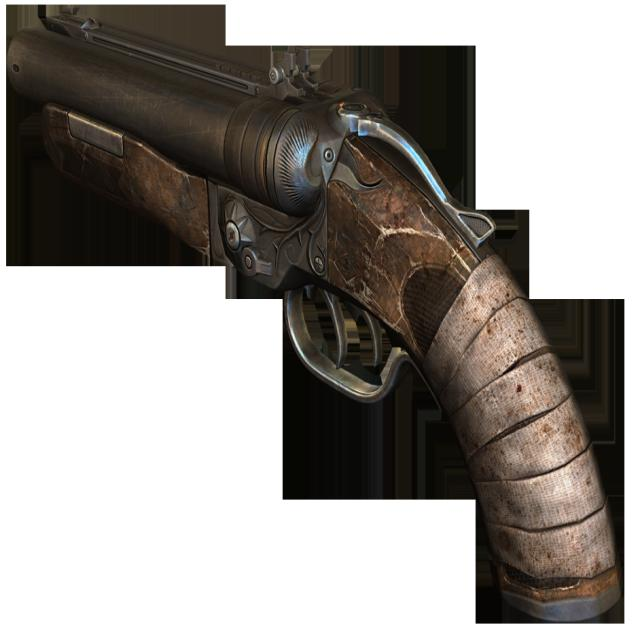Weapon: (7, 15, 549, 414)
